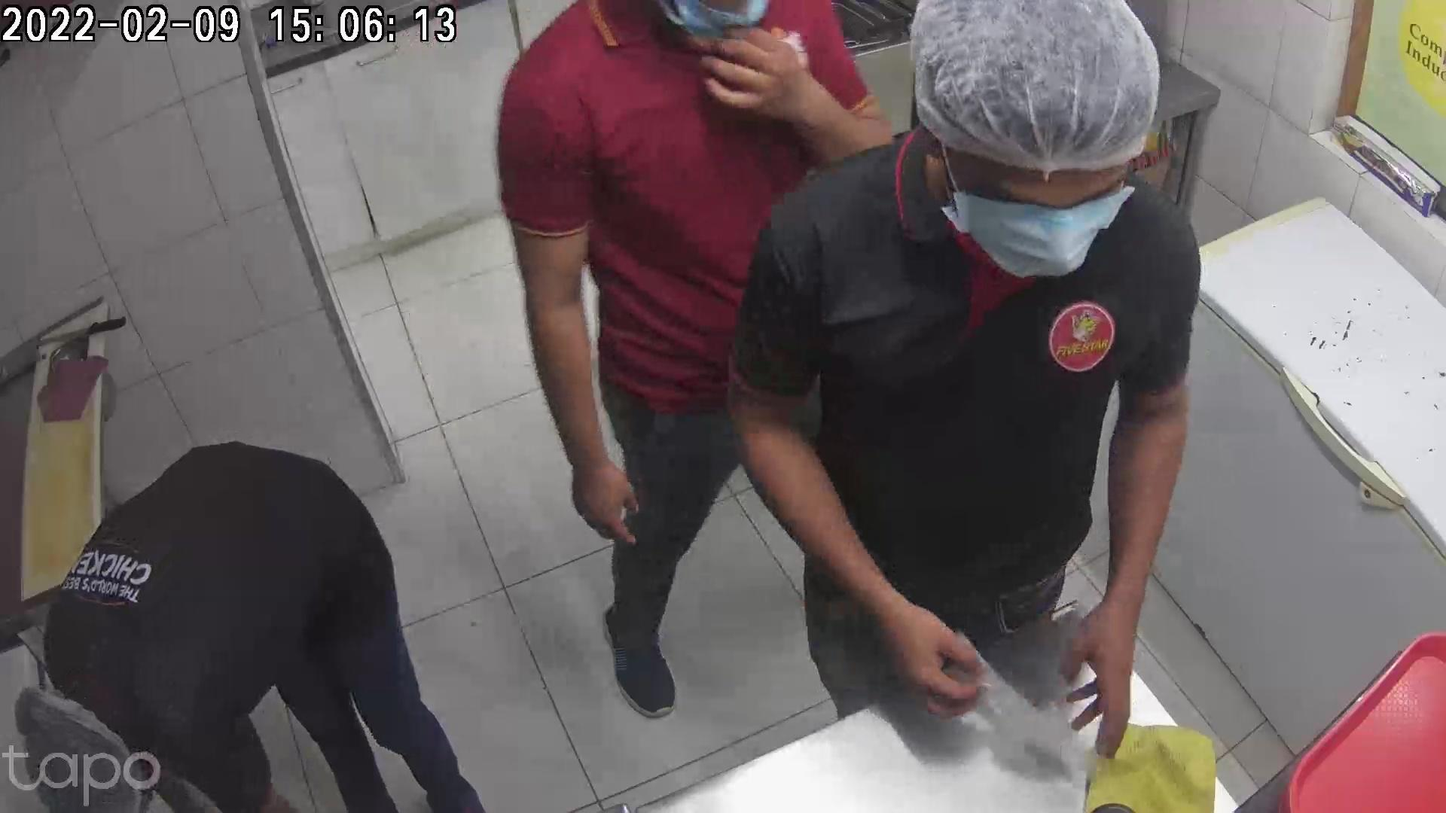no_gloves: (710, 32, 832, 121), (564, 438, 646, 545)
